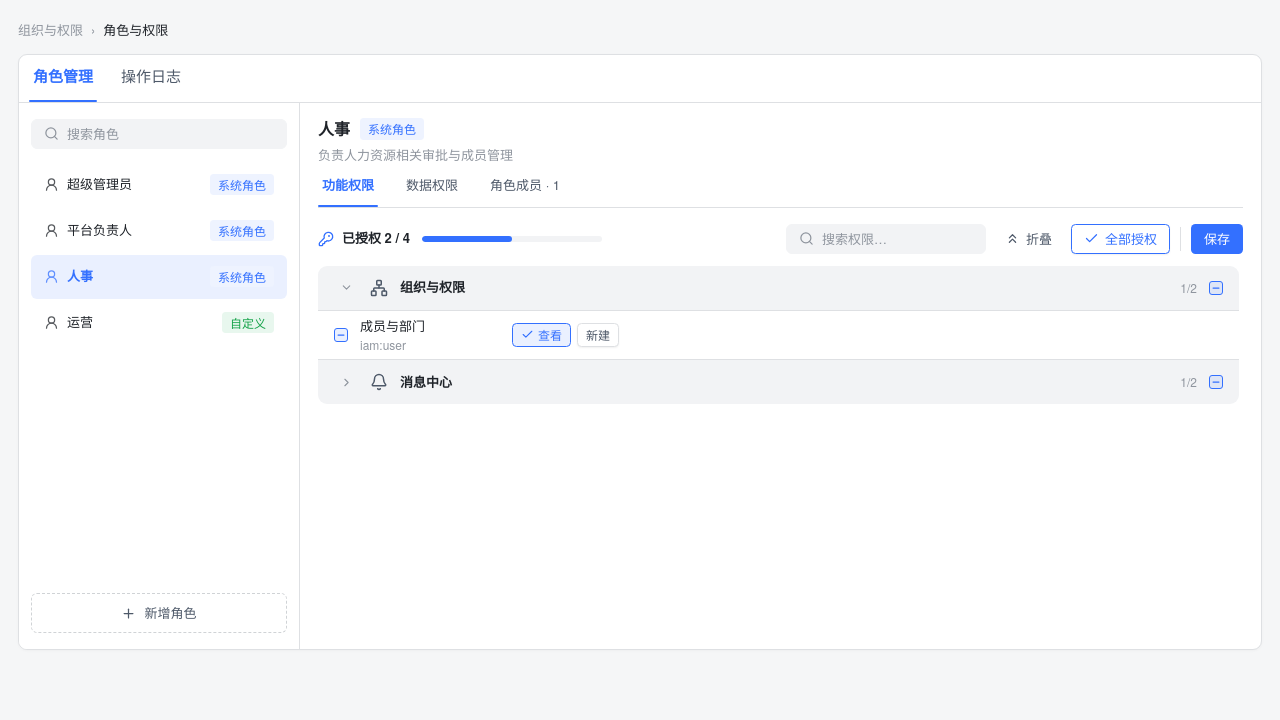
功能权限操作只保留保存，并在全部授权和全部取消间切换
The width and height of the screenshot is (1280, 720).
Expected: the button "保存" is shown, [1191, 224, 1243, 254]
Click the button "全部授权": [1120, 239] box [1071, 224, 1170, 254]
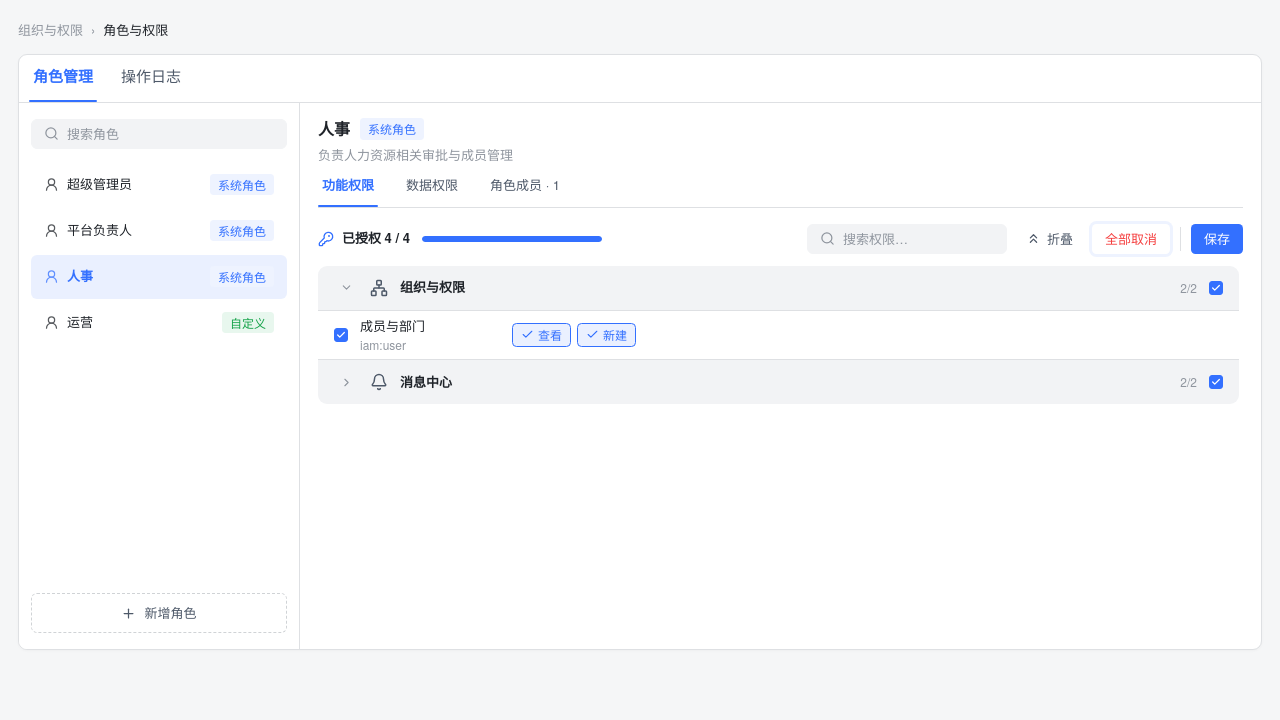
Result: the button "全部取消" is shown at [1092, 224, 1170, 254]
Result: the button "全部授权" is gone
